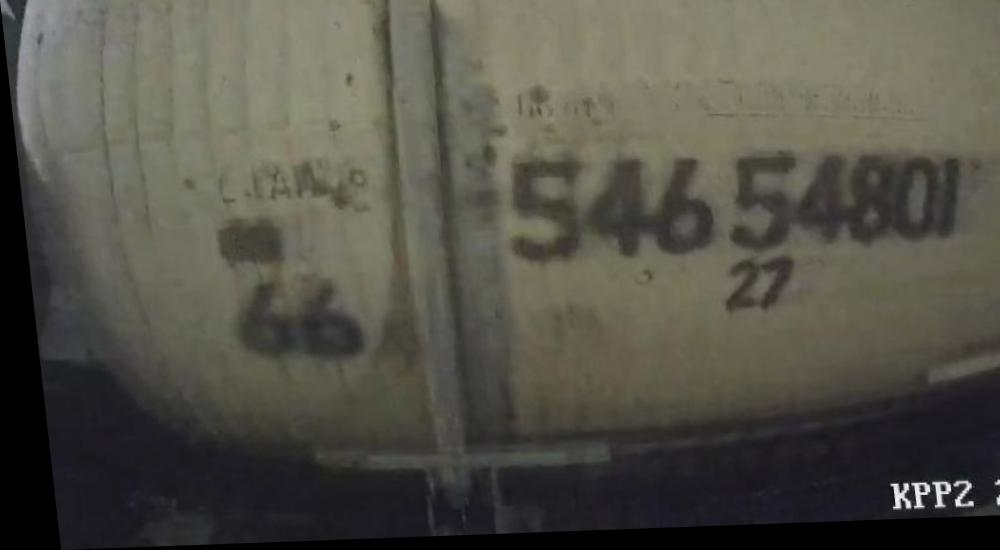Wagon-number: (494, 143, 968, 273)
